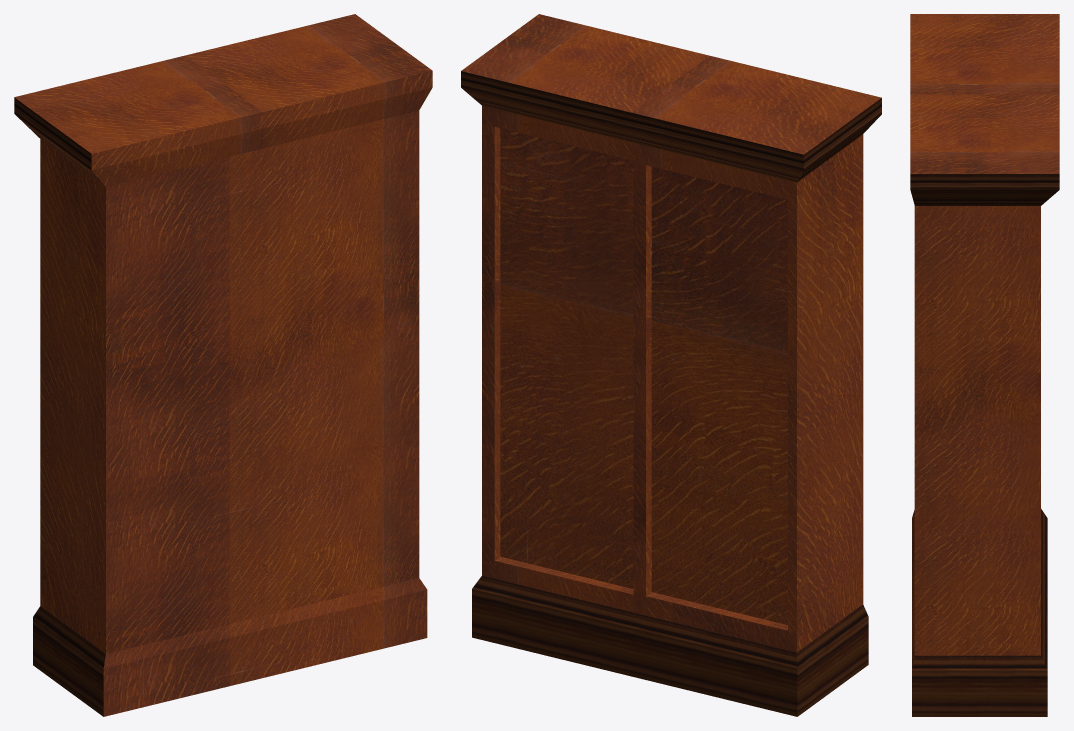
File: Bookcaseshort3.fbx
The picture shows the model from 3 angles, left to right: view 1: azimuth 30°, elevation 25°; view 2: azimuth 150°, elevation 25°; view 3: azimuth 270°, elevation 25°; orthographic projection. The views are drawn at different scales.
Visible parts, largest first — view 1: Bookcaseshort3; view 2: Bookcaseshort3; view 3: Bookcaseshort3.
Part boxes in pixels (box(x1,y1,x2,y2)): Bookcaseshort3: box(14, 14, 432, 716); Bookcaseshort3: box(461, 14, 881, 716); Bookcaseshort3: box(910, 14, 1059, 716).
Bounding box in the file's own units: 213 × 338 × 83.72.
